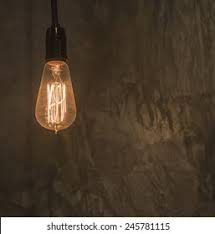bulb: (29, 50, 94, 157)
